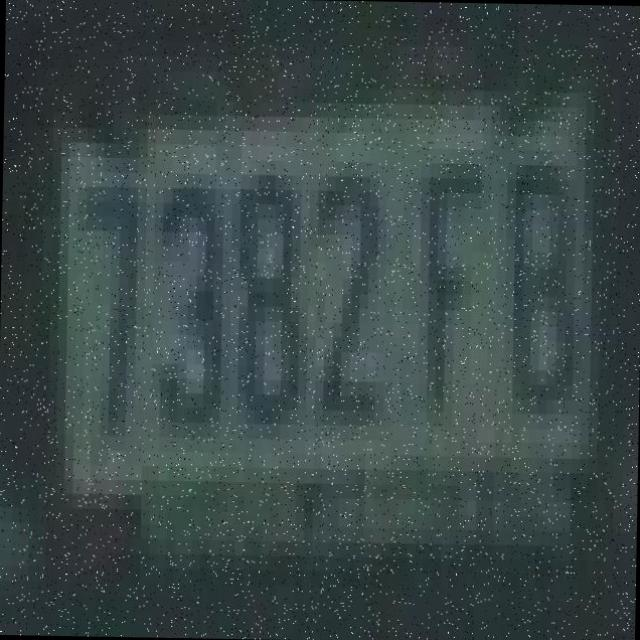LicensePlate: (58, 112, 621, 518)
